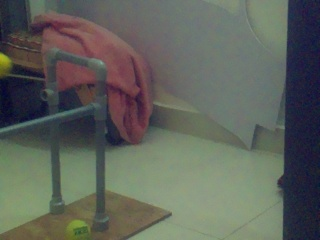ball: (0, 52, 12, 78)
